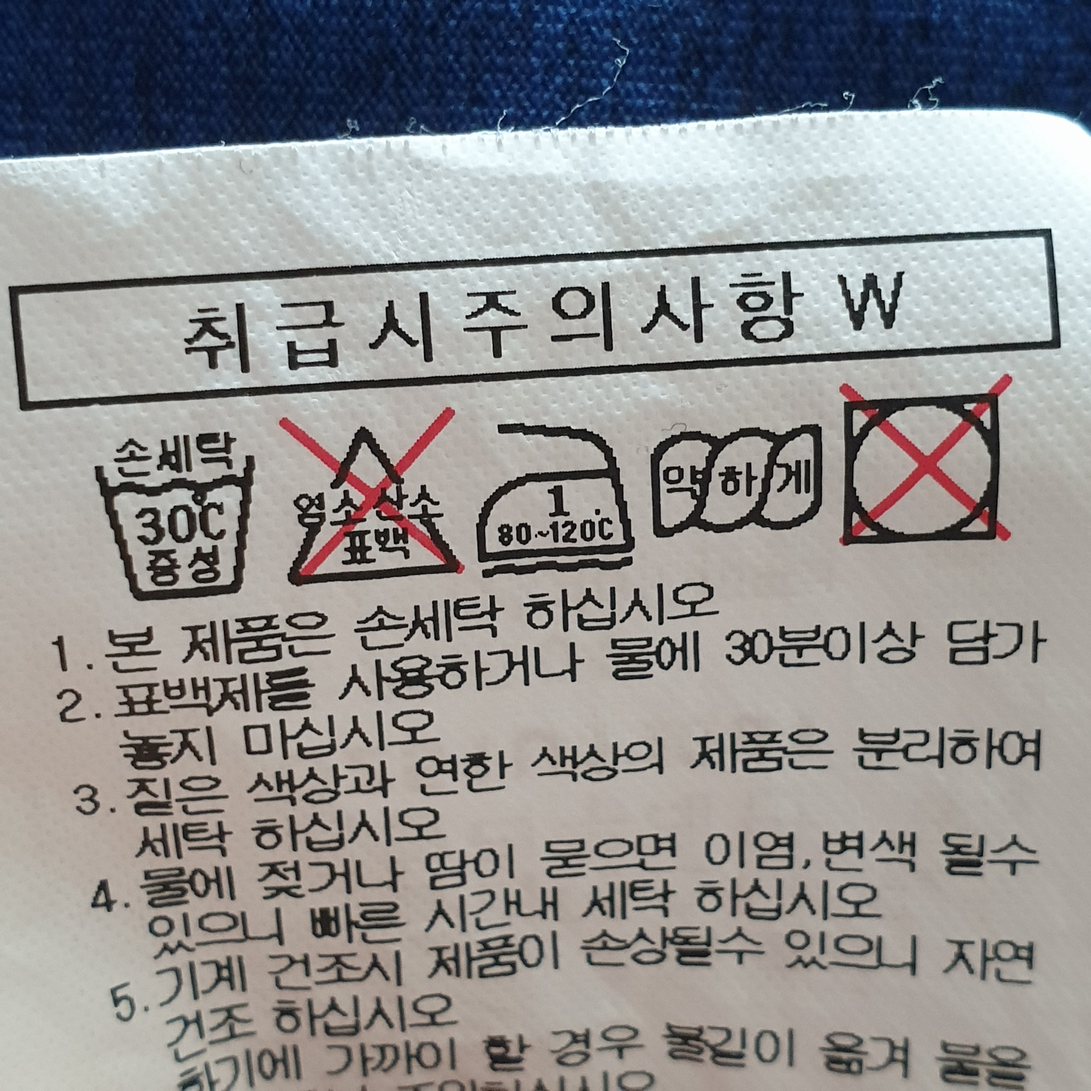KR_gentle_wring: (644, 408, 832, 547)
KR_hand_wash_30_neutral: (76, 417, 257, 606)
KR_iron_low_temp_with_cloth: (478, 422, 644, 579)
KR_no_bleach: (271, 417, 472, 587)
KR_no_tumble_dry: (830, 368, 1022, 566)
